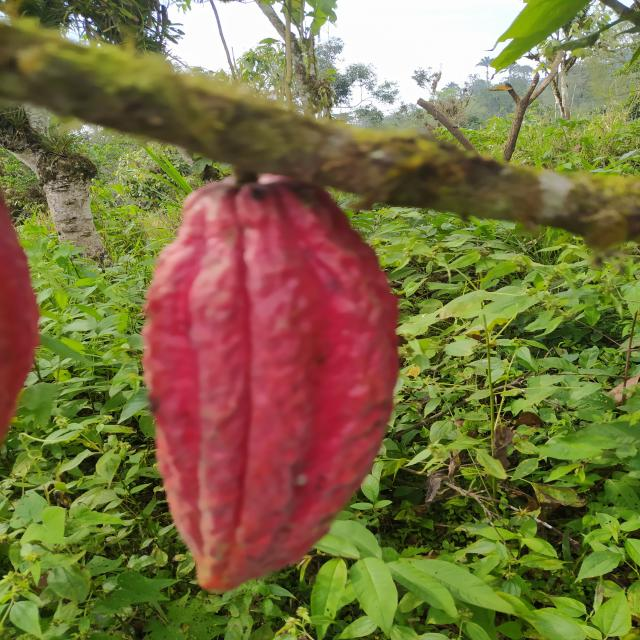Sana: (143, 171, 399, 593)
